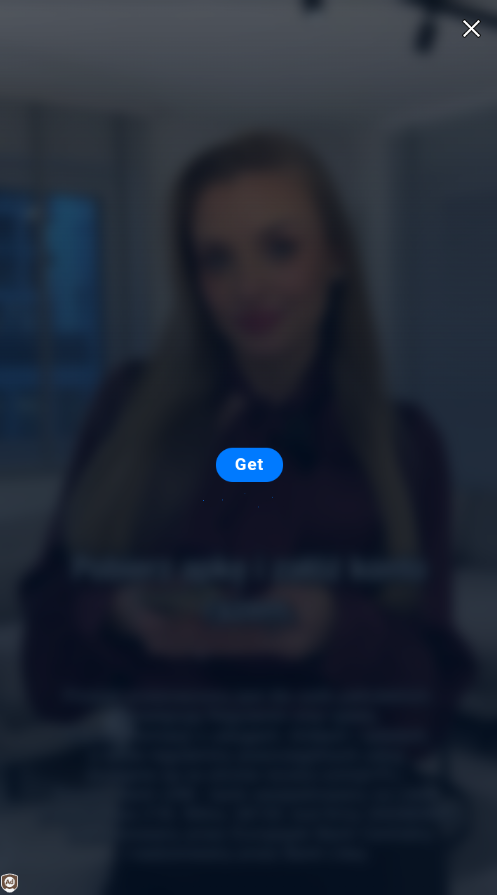close_button: (461, 14, 481, 41)
